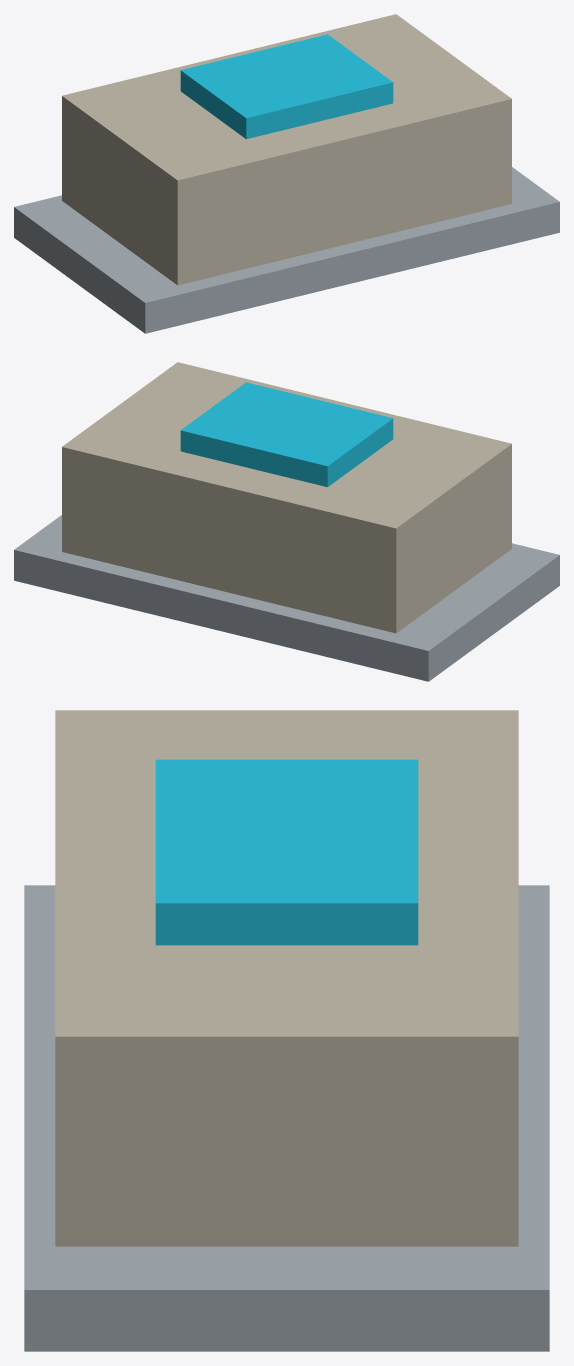
File: 120_L109_D04_LED.fbx
3 renders of one model, top to bottom at view 1: azimuth 30°, elevation 25°; view 2: azimuth 150°, elevation 25°; view 3: azimuth 270°, elevation 25°, orthographic. The views are drawn at different scales.
Visible parts, largest first — view 1: L109_D04_LED_CERAMIC, L109_D04_LED_SOLDER, L109_D04_LED_CYAN; view 2: L109_D04_LED_CERAMIC, L109_D04_LED_SOLDER, L109_D04_LED_CYAN; view 3: L109_D04_LED_CERAMIC, L109_D04_LED_SOLDER, L109_D04_LED_CYAN.
Part boxes in pixels (x1,y1,x2,y2): L109_D04_LED_CERAMIC: (62,14,511,285); L109_D04_LED_SOLDER: (14,167,559,333); L109_D04_LED_CYAN: (180,34,393,139); L109_D04_LED_CERAMIC: (62,362,511,633); L109_D04_LED_SOLDER: (14,515,559,681); L109_D04_LED_CYAN: (180,382,393,487); L109_D04_LED_CERAMIC: (55,710,518,1246); L109_D04_LED_SOLDER: (24,885,549,1351); L109_D04_LED_CYAN: (155,759,418,945).
Bounding box in the file's own units: 3.1 × 1.7 × 1.13.
